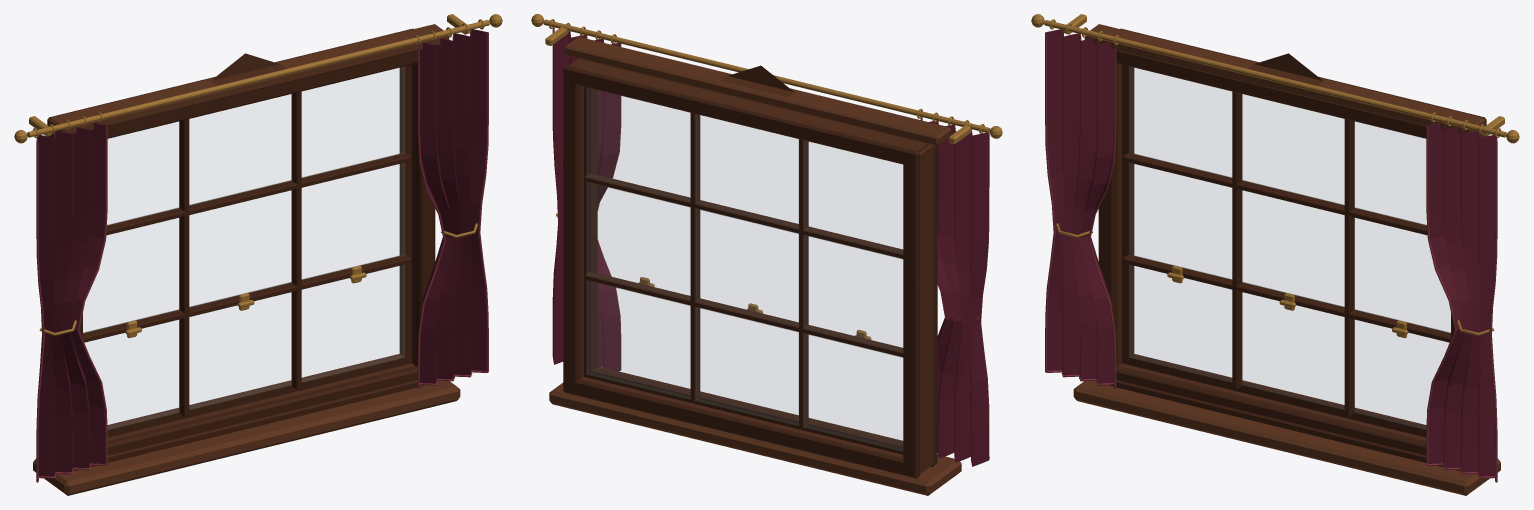
File: PubWindowComplete.glb
3 renders of one model, left to right at view 1: azimuth 30°, elevation 25°; view 2: azimuth 150°, elevation 25°; view 3: azimuth 330°, elevation 25°, orthographic. The views are drawn at different scales.
Parts seen in each view (by area): view 1: CurtainLeft.001, CurtainRight.001, DeepSill.001, ClearPane_2_1, ClearPane_2_0, ClearPane_1_1.001, ClearPane_1_0.001, ClearPane_2_2, ClearPane_1_2.001, ClearPane_0_1.001, ClearPane_0_0.001, LintelCap.001 (+19 smaller); view 2: CurtainLeft.001, ClearPane_2_0, ClearPane_1_0.001, ClearPane_2_1, ClearPane_1_1.001, ClearPane_0_0.001, ClearPane_2_2, ClearPane_0_1.001, ClearPane_1_2.001, ClearPane_0_2.001, LintelCap.001, CurtainRight.001 (+18 smaller); view 3: CurtainRight.001, CurtainLeft.001, DeepSill.001, ClearPane_0_1.001, ClearPane_0_0.001, ClearPane_1_1.001, ClearPane_1_0.001, ClearPane_0_2.001, ClearPane_1_2.001, ClearPane_2_1, ClearPane_2_0, ClearPane_2_2 (+19 smaller).
Part boxes in pixels (x1,y1,x2,y2): CurtainLeft.001: (36, 122, 106, 476); CurtainRight.001: (417, 29, 488, 383); DeepSill.001: (33, 381, 460, 495); ClearPane_2_1: (302, 163, 403, 278); ClearPane_2_0: (302, 265, 403, 380); ClearPane_1_1.001: (190, 191, 290, 305); ClearPane_1_0.001: (190, 293, 290, 407); ClearPane_2_2: (302, 67, 403, 176); ClearPane_1_2.001: (190, 95, 290, 203); ClearPane_0_1.001: (83, 218, 178, 331); ClearPane_0_0.001: (85, 320, 178, 427); LintelCap.001: (49, 24, 449, 134); CurtainLeft.001: (920, 117, 988, 465); ClearPane_2_0: (587, 281, 690, 398); ClearPane_1_0.001: (696, 307, 798, 425); ClearPane_2_1: (587, 182, 690, 299); ClearPane_1_1.001: (696, 209, 798, 326); ClearPane_0_0.001: (804, 334, 902, 450); ClearPane_2_2: (587, 88, 690, 201); ClearPane_0_1.001: (804, 235, 902, 351); ClearPane_1_2.001: (696, 114, 798, 227); ClearPane_0_2.001: (804, 141, 902, 253); LintelCap.001: (564, 37, 951, 145); CurtainRight.001: (552, 27, 620, 370); CurtainRight.001: (1427, 122, 1497, 476); CurtainLeft.001: (1045, 29, 1116, 383); DeepSill.001: (1073, 381, 1500, 495); ClearPane_0_1.001: (1130, 163, 1231, 278); ClearPane_0_0.001: (1130, 265, 1231, 380); ClearPane_1_1.001: (1243, 191, 1343, 305); ClearPane_1_0.001: (1243, 293, 1343, 407); ClearPane_0_2.001: (1130, 67, 1231, 176); ClearPane_1_2.001: (1243, 95, 1343, 203); ClearPane_2_1: (1355, 218, 1450, 331); ClearPane_2_0: (1355, 320, 1448, 427); ClearPane_2_2: (1355, 122, 1426, 224).
Bounding box in the file's own units: 8.73 × 6.56 × 1.13.
